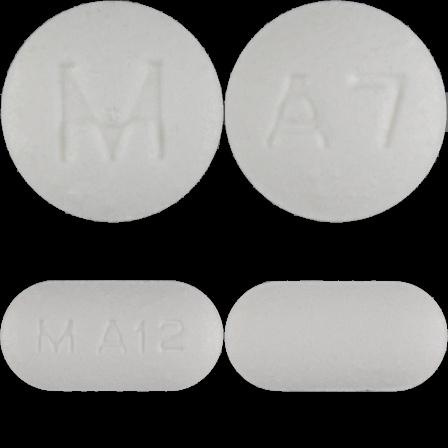51079-941: (0, 0, 224, 224)
